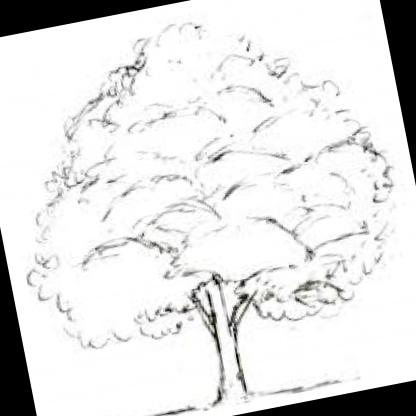branch_cut: (182, 270, 258, 336)
crown_cloud: (0, 0, 416, 370)
root_none: (192, 380, 280, 416)
trunk_straight: (212, 334, 250, 384)
